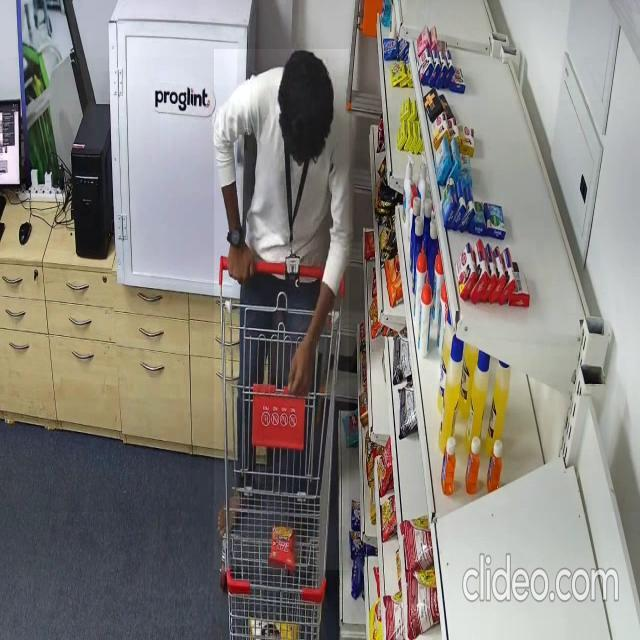normal: (214, 49, 349, 570)
